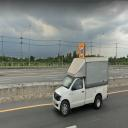speed_limit_120: (80, 46, 84, 56)
